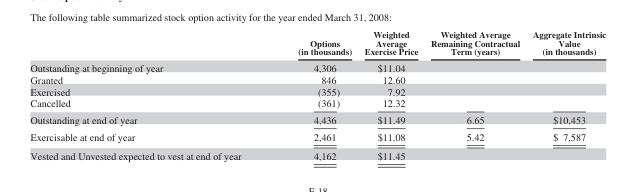table: (29, 28, 605, 161)
table column: (29, 28, 268, 161), (423, 28, 525, 161), (268, 28, 357, 161), (525, 28, 605, 161), (357, 28, 423, 161)
table column header: (29, 28, 605, 59)
table row: (29, 28, 605, 59), (29, 127, 605, 145), (29, 111, 605, 127), (29, 145, 605, 161), (29, 96, 605, 111), (29, 59, 605, 73), (29, 73, 605, 85), (29, 85, 605, 96)
